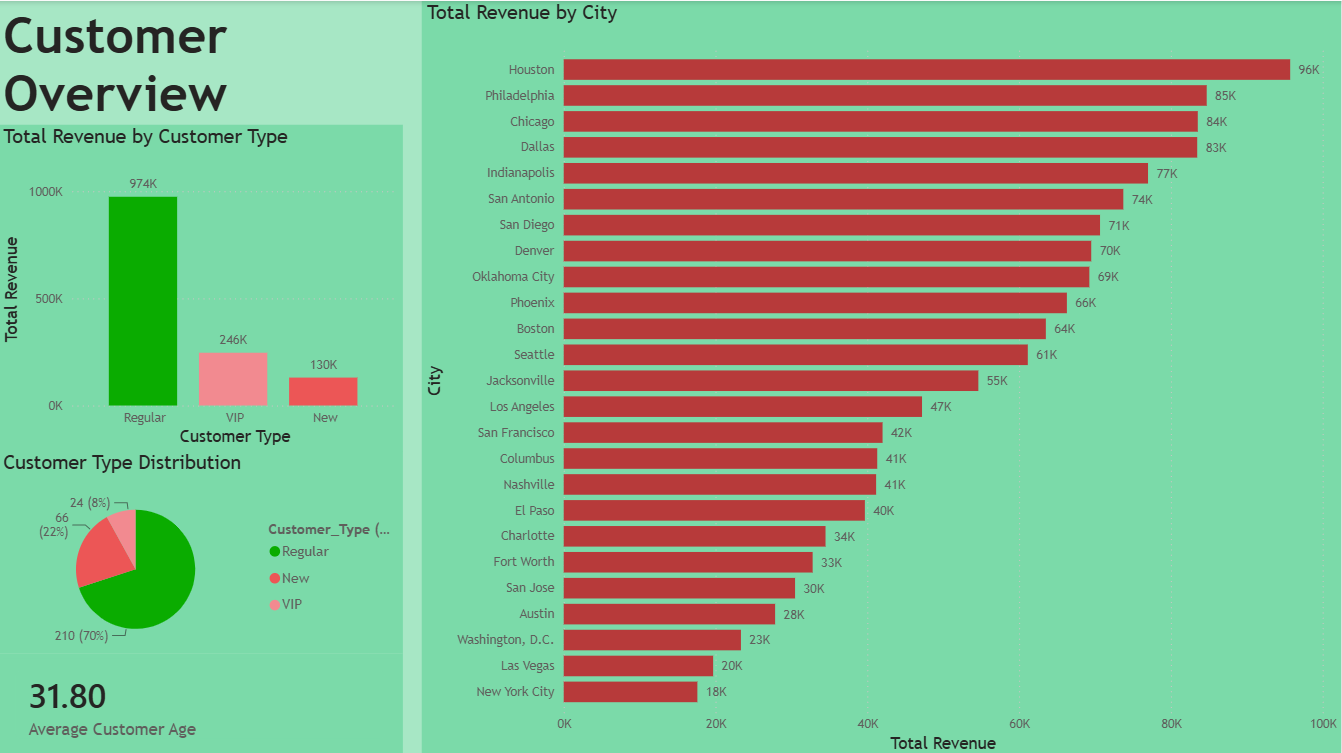

This screenshot's page, from the dashboard's own definition file:
{"tool":"powerbi","page":{"name":"Customer Overview","canvas":[1280,720],"ordinal":3},"visuals":[{"type":"columnChart","title":"Total Revenue by Customer Type","fields":{"Category":["Customers.Customer_Type (Regular/VIP/New)"],"Y":["_DAX Measures.Total Revenue"]},"box":[0,118.1,385.5,310.8],"z":0},{"type":"pieChart","title":"Customer Type Distribution","fields":{"Category":["Customers.Customer_Type (Regular/VIP/New)"],"Y":["CountNonNull(Customers.Customer_ID)"]},"box":[0,428.9,385.5,192.7],"z":1000},{"type":"clusteredBarChart","fields":{"Category":["Customers.City"],"Y":["_DAX Measures.Total Revenue"]},"box":[403.6,0,876.2,720.2],"z":2000},{"type":"cardVisual","fields":{"Data":["_DAX Measures.Average Customer Age"]},"box":[0,621.6,385.5,99],"z":3000},{"type":"textbox","box":[0,0,297.6,166.7],"z":4000}]}

Visuals, with their boxes in screenshot pixels (x1, y1, x2, y2), scaled from the page's 1280x720 canvas onto the 1342x753 screenshot:
"Total Revenue by Customer Type" columnChart: box=[0, 124, 404, 449]
"Customer Type Distribution" pieChart: box=[0, 449, 404, 650]
clusteredBarChart - Customers.City x _DAX Measures.Total Revenue: box=[423, 0, 1341, 752]
cardVisual - _DAX Measures.Average Customer Age: box=[0, 650, 404, 752]
textbox: box=[0, 0, 312, 174]
